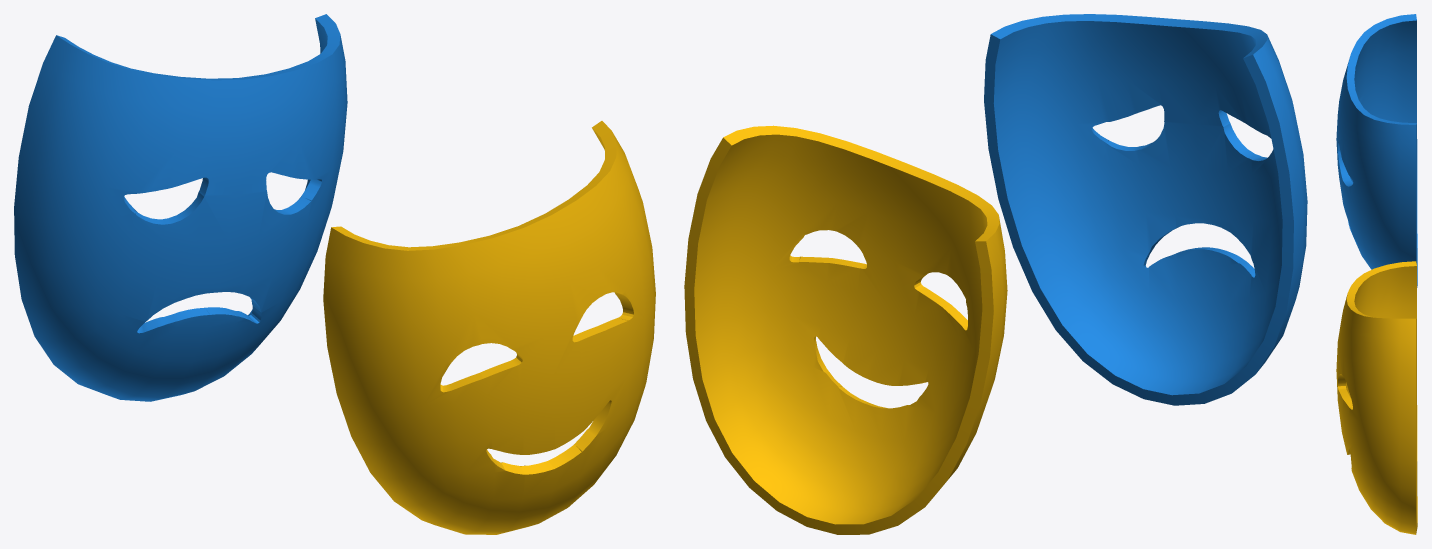
The model's file is performing_arts.glb.
The picture shows the model from 3 angles, left to right: view 1: azimuth 30°, elevation 25°; view 2: azimuth 150°, elevation 25°; view 3: azimuth 270°, elevation 25°; orthographic projection. The views are drawn at different scales.
Visible parts, largest first — view 1: Cube.908; view 2: Cube.908; view 3: Cube.908.
Part boxes in pixels (x1,y1,x2,y2): Cube.908: (14,14,655,534); Cube.908: (684,14,1307,534); Cube.908: (1336,14,1417,534).
Size of the model in its own units: 2.28 by 2.08 by 0.4062.
1 material, 1 textured.
